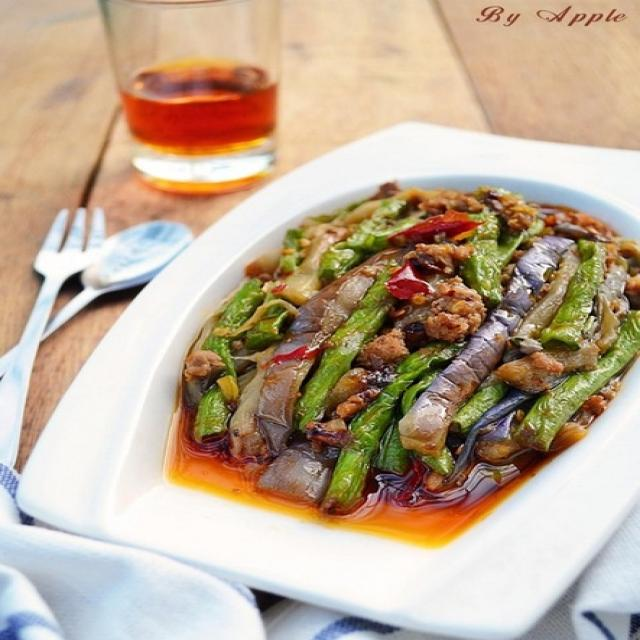鸡蛋料理: (110, 122, 620, 573)
